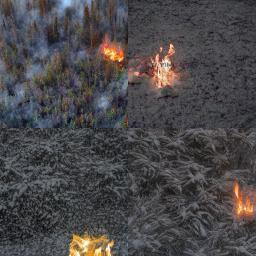Small fire: (230, 182, 256, 220), (68, 230, 109, 252), (150, 51, 173, 88), (101, 38, 119, 58)
